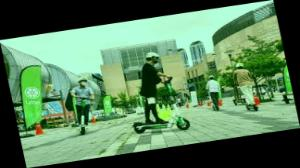helmet: (117, 47, 194, 139), (65, 74, 105, 137), (229, 60, 263, 115), (201, 73, 227, 112)
